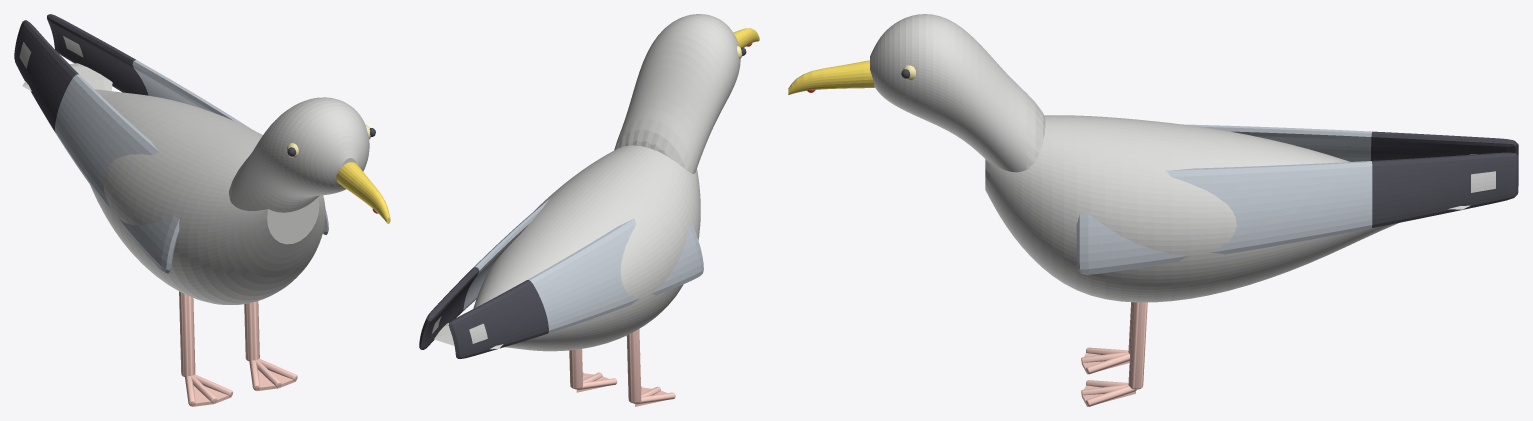
Rendered from seagull_perch.glb.
The picture shows the model from 3 angles, left to right: view 1: azimuth 30°, elevation 25°; view 2: azimuth 150°, elevation 25°; view 3: azimuth 270°, elevation 25°; orthographic projection. The views are drawn at different scales.
Visible parts, largest first — view 1: seagull_perch; view 2: seagull_perch; view 3: seagull_perch.
Part boxes in pixels (x1,y1,x2,y2): seagull_perch: (14,14,390,406); seagull_perch: (419,14,759,406); seagull_perch: (788,14,1518,406).
Size of the model in its own units: 0.1636 by 0.3321 by 0.6075.
